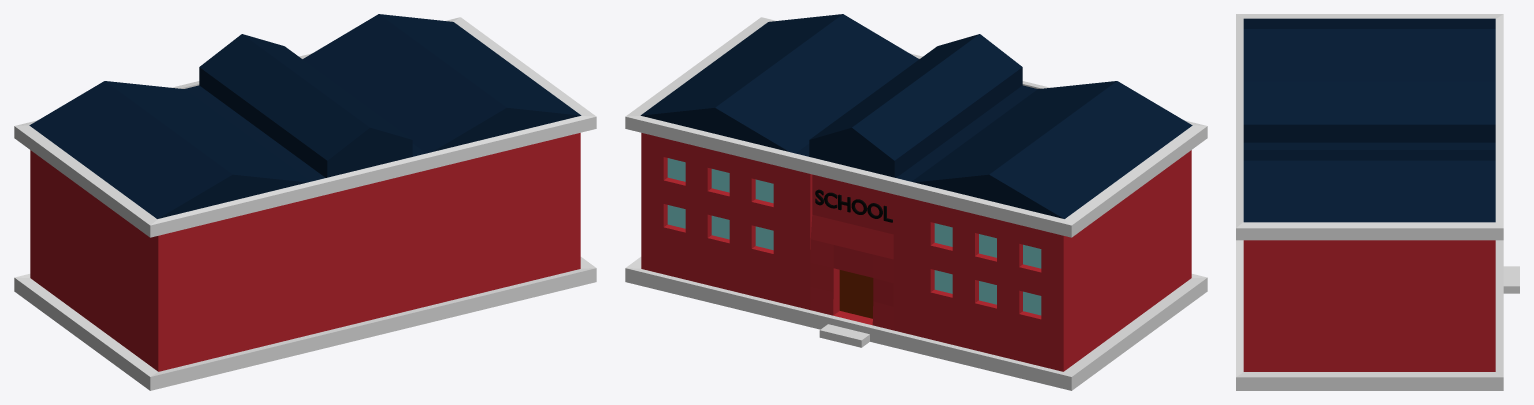
The model's file is School.fbx.
3 renders of one model, left to right at view 1: azimuth 30°, elevation 25°; view 2: azimuth 150°, elevation 25°; view 3: azimuth 270°, elevation 25°, orthographic.
Visible parts, largest first — view 1: Cube, Cube.004, Cube.003; view 2: Cube, Cube.004, Cube.003, Cube.001, Cube.002, Text; view 3: Cube.004, Cube, Cube.003.
Part boxes in pixels (<box>): Cube: <box>30,133,580,371</box>; Cube.004: <box>29,14,581,218</box>; Cube.003: <box>14,17,596,390</box>; Cube: <box>641,133,1191,371</box>; Cube.004: <box>640,14,1192,218</box>; Cube.003: <box>625,17,1207,390</box>; Cube.001: <box>667,158,1041,315</box>; Cube.002: <box>839,270,873,318</box>; Text: <box>815,189,892,222</box>; Cube.004: <box>1243,18,1495,222</box>; Cube: <box>1243,240,1495,371</box>; Cube.003: <box>1236,14,1519,390</box>.
Bounding box in the file's own units: 11.41 × 5.05 × 6.39.
